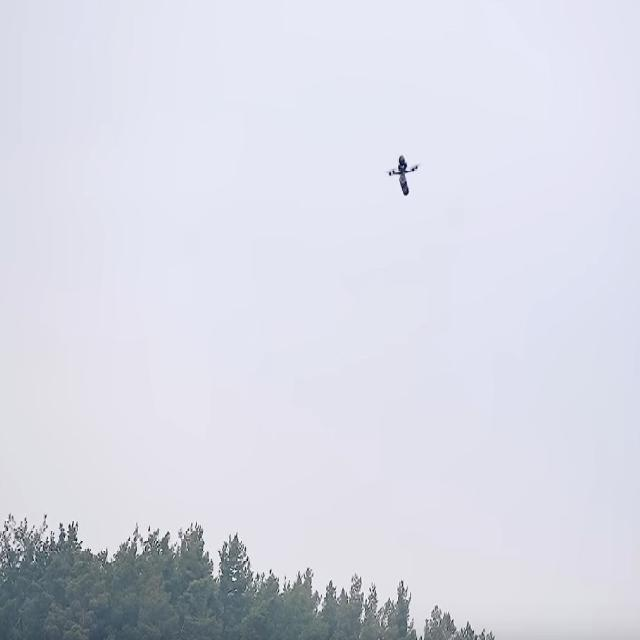drone: (381, 154, 426, 197)
